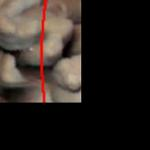alive: (1, 1, 79, 101)
